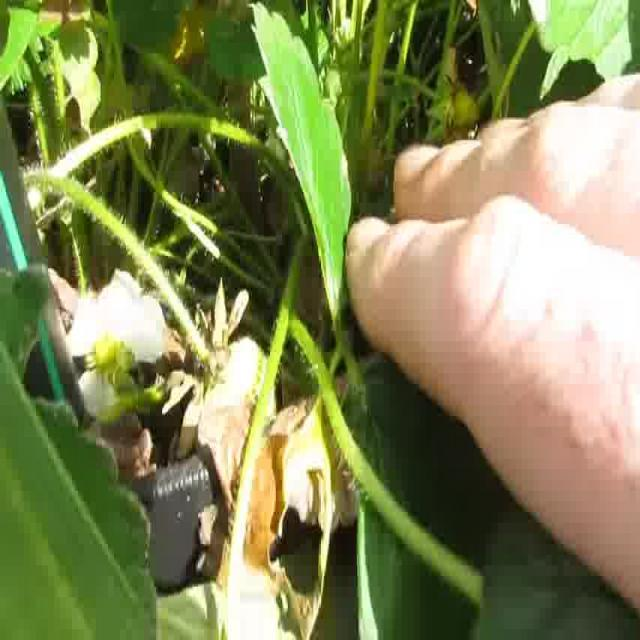Moho gris: (196, 340, 280, 545)
